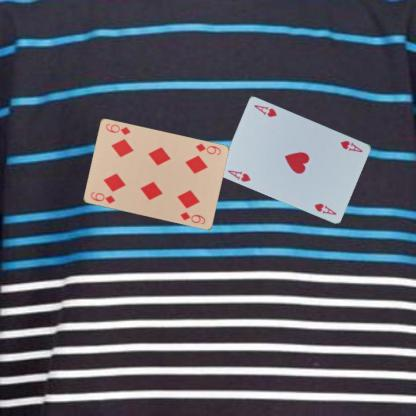6d: (193, 141, 222, 157), (88, 190, 116, 205)
Ah: (225, 167, 252, 183), (338, 138, 364, 154)
